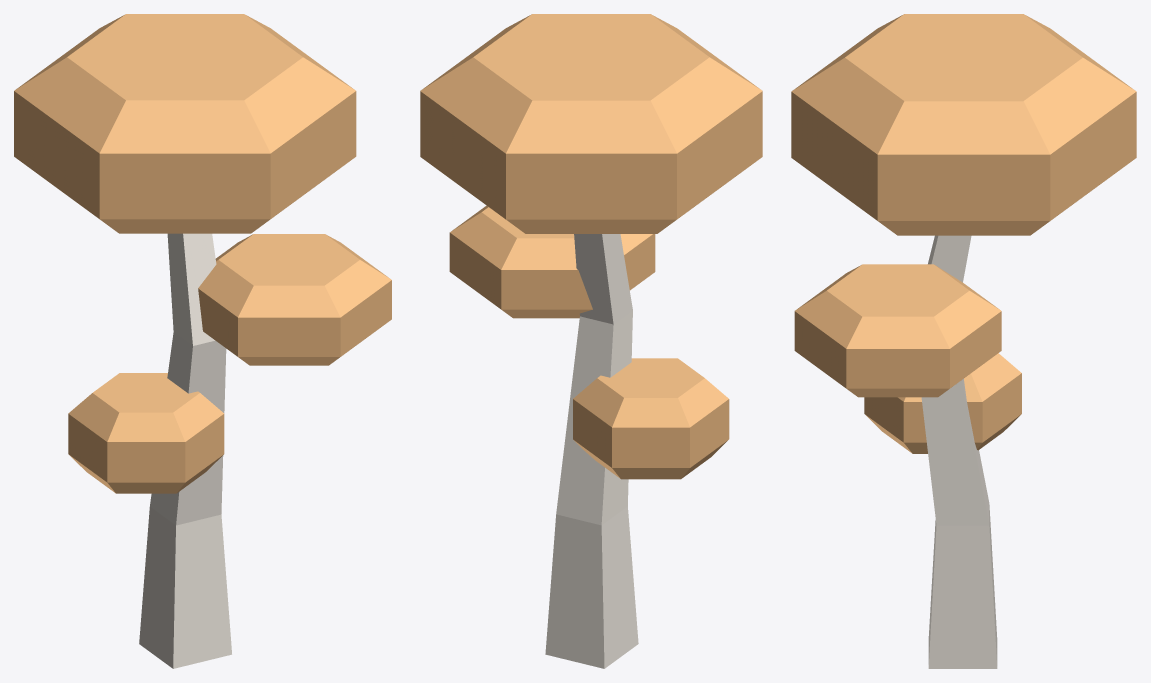
The model's file is tree_plateau_fall.gltf.
3 renders of one model, left to right at view 1: azimuth 30°, elevation 25°; view 2: azimuth 150°, elevation 25°; view 3: azimuth 270°, elevation 25°, orthographic.
Visible parts, largest first — view 1: tree_plateau_fall; view 2: tree_plateau_fall; view 3: tree_plateau_fall.
Boxes of the visible parts, x1,y1,x2,y2 form: tree_plateau_fall: (14, 14, 391, 668); tree_plateau_fall: (420, 14, 762, 668); tree_plateau_fall: (791, 14, 1136, 668).
Bounding box in the file's own units: 0.6117 × 1.25 × 0.6549.
